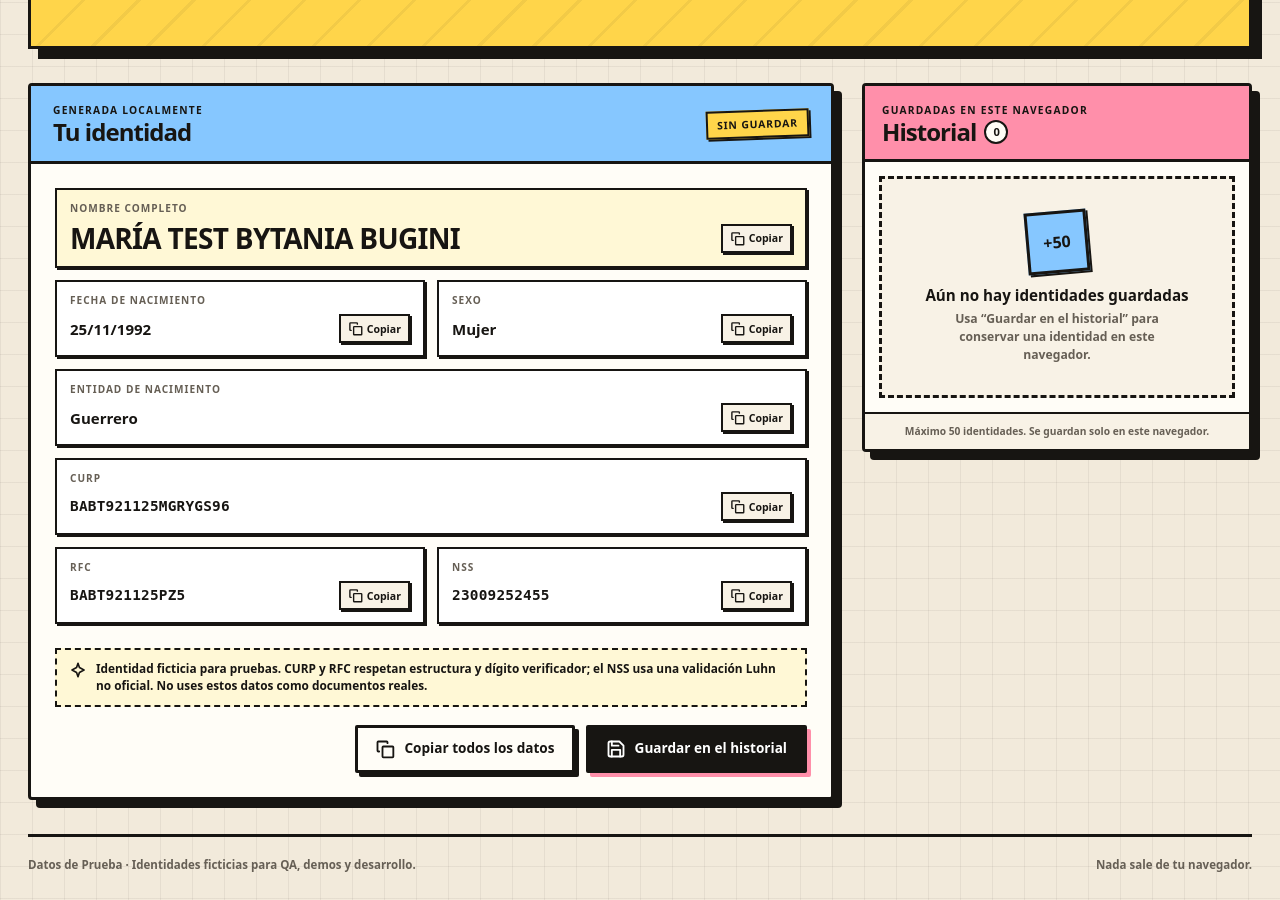
Scenario: App › saves the current identity, updates history, and persists it
This screenshot has width=1280, height=900.
(page scrolled)
Click the button "Guardar en el historial" at (696, 749), box [586,725,807,773]
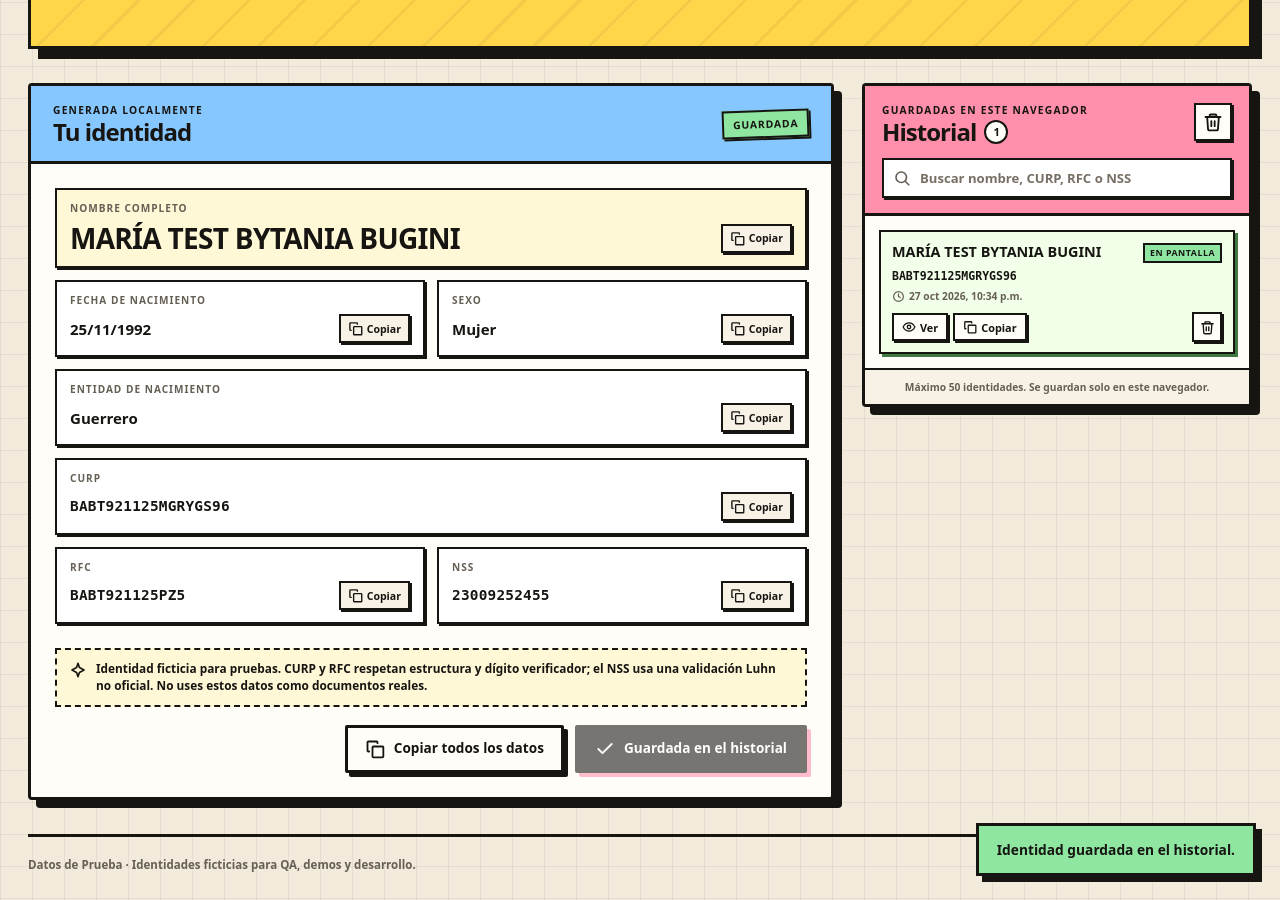
Result: the button "Guardada en el historial" is disabled at [575,725,807,773]
Result: the text "Identidad guardada en el historial." is shown at [976,823,1256,876]
Result: the text "En pantalla" is shown at [1143,243,1222,263]
